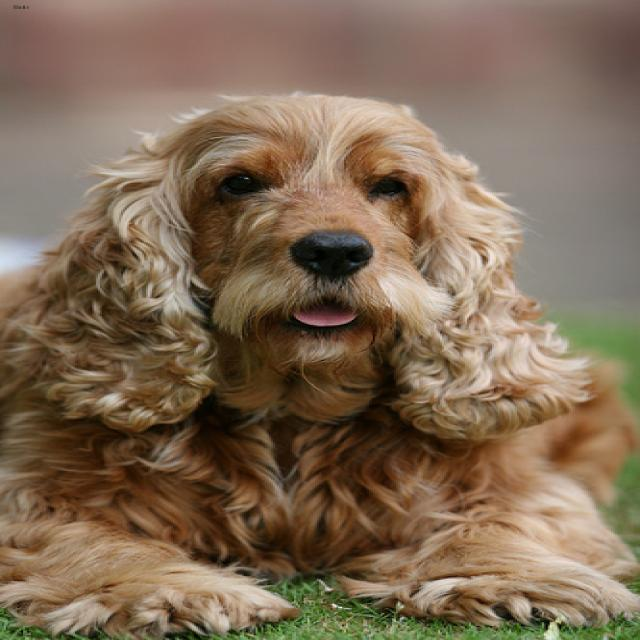dog-english_cocker_spaniel: (2, 78, 636, 637)
